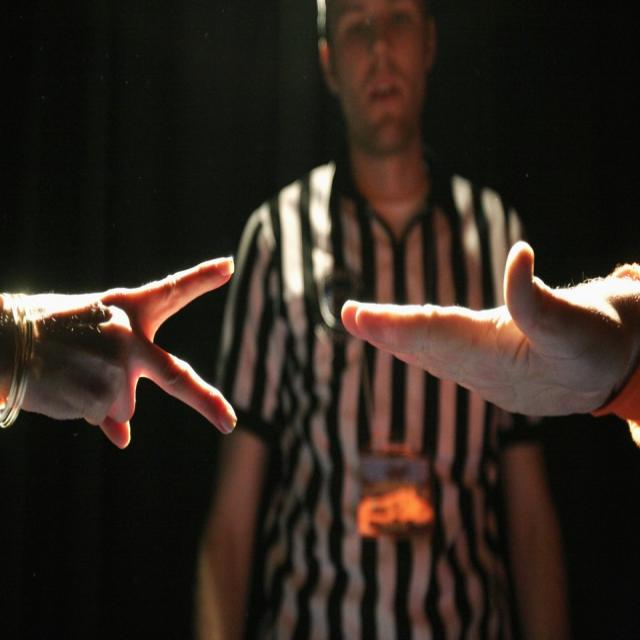paper: (341, 244, 594, 416)
scissors: (57, 258, 238, 450)
